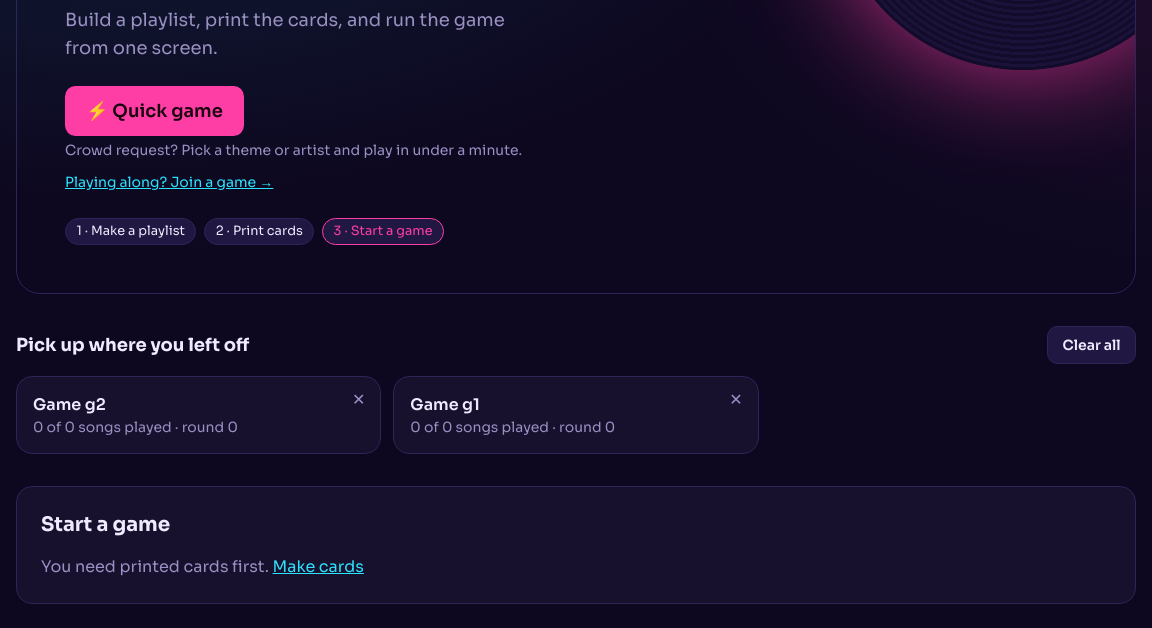
Test: a game can be cleared from "Pick up where you left off" and stays in history as finished
(page scrolled)
Click the button named "Clear Game g1": x=736, y=400 [721, 384, 751, 416]
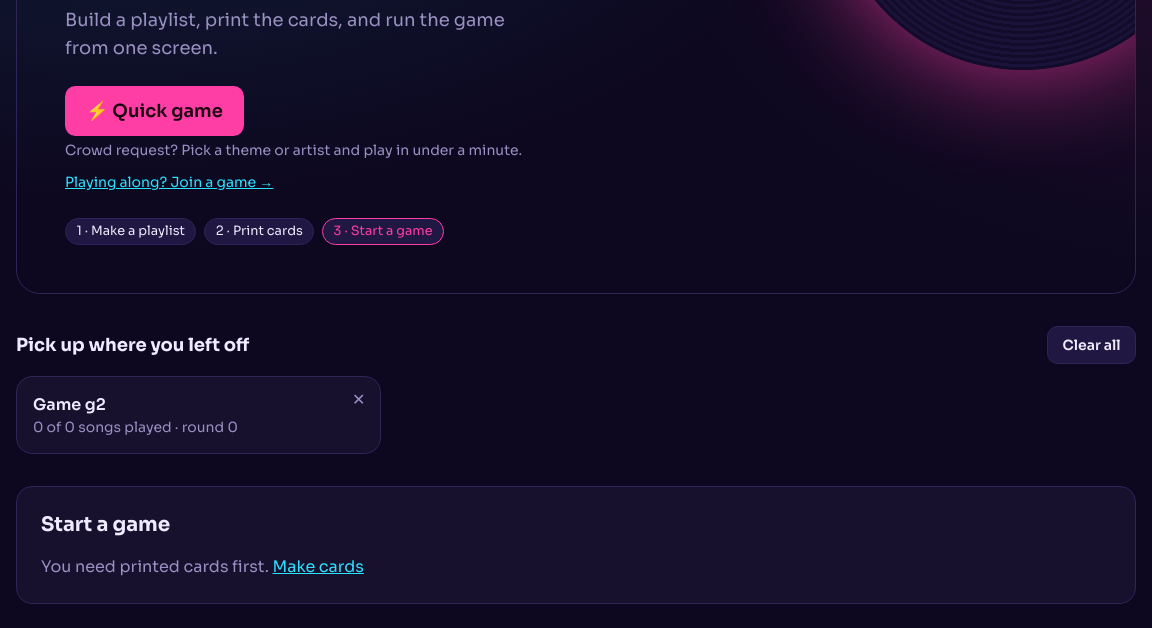
Expected: the text "Game g2" is shown, [33, 394, 106, 415]
Now the link "Game g1" is gone
